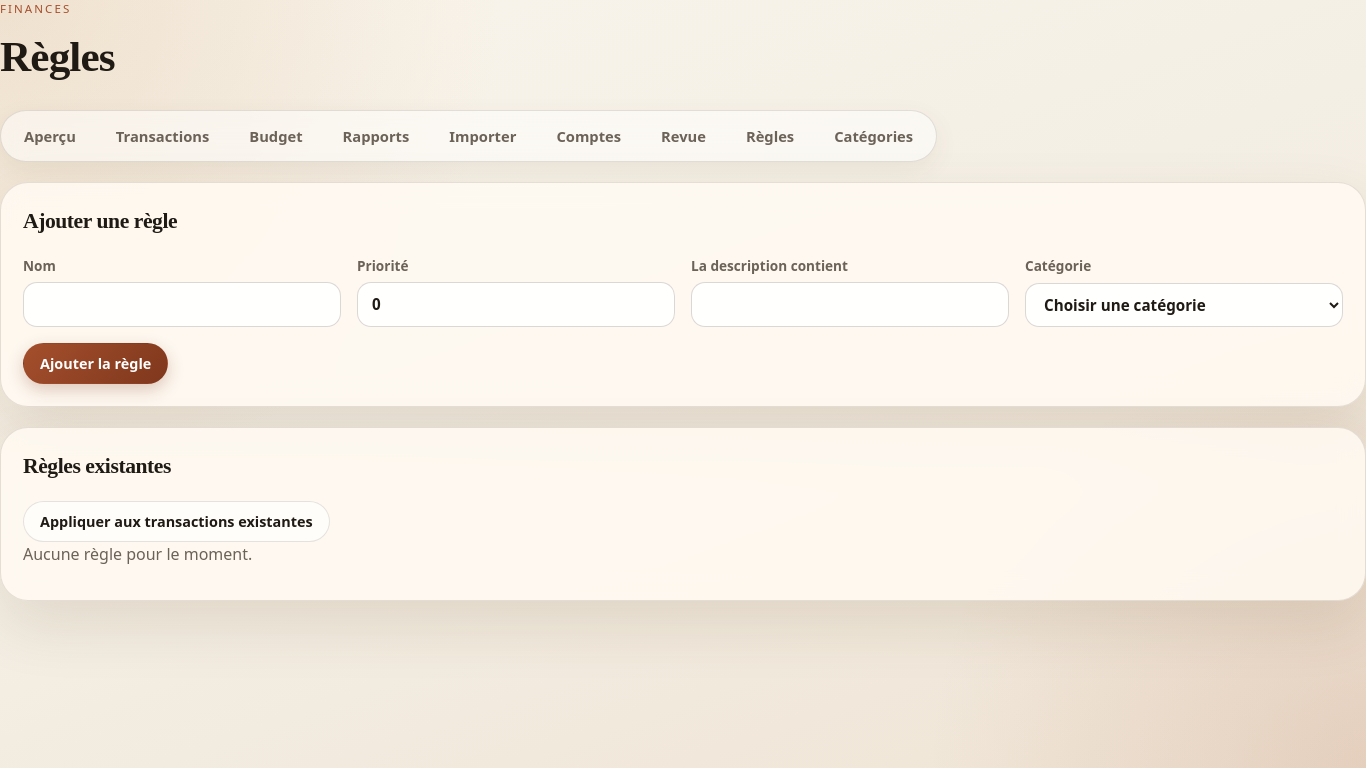
it: FinanceRulesPage › creates a rule and applies it to existing transactions
This screenshot has width=1366, height=768.
Type "Épicerie IGA" into the field labelled "Nom".
click(182, 304); type("Épicerie IGA")  # box [23,282,341,327]
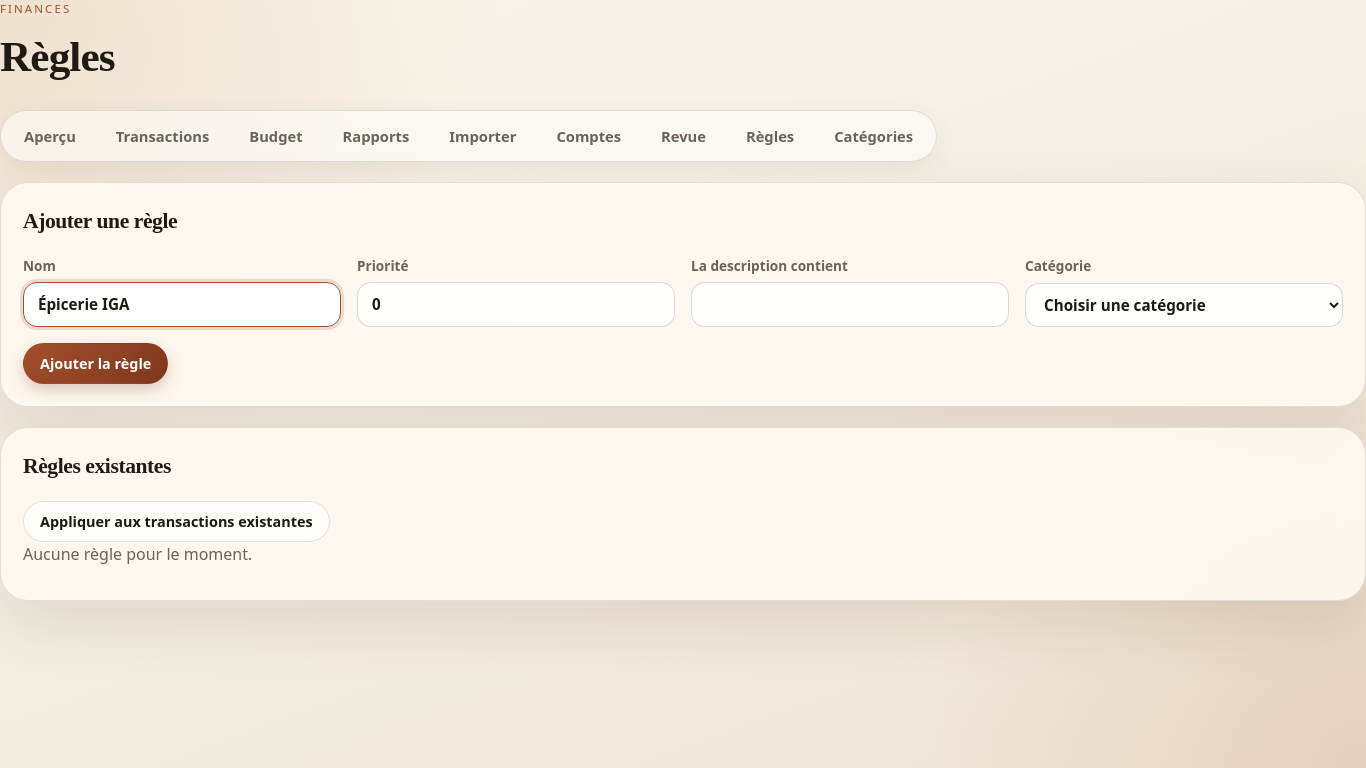
Type "IGA" into the field labelled "La description contient".
click(850, 304); type("IGA")  # box [691,282,1009,327]
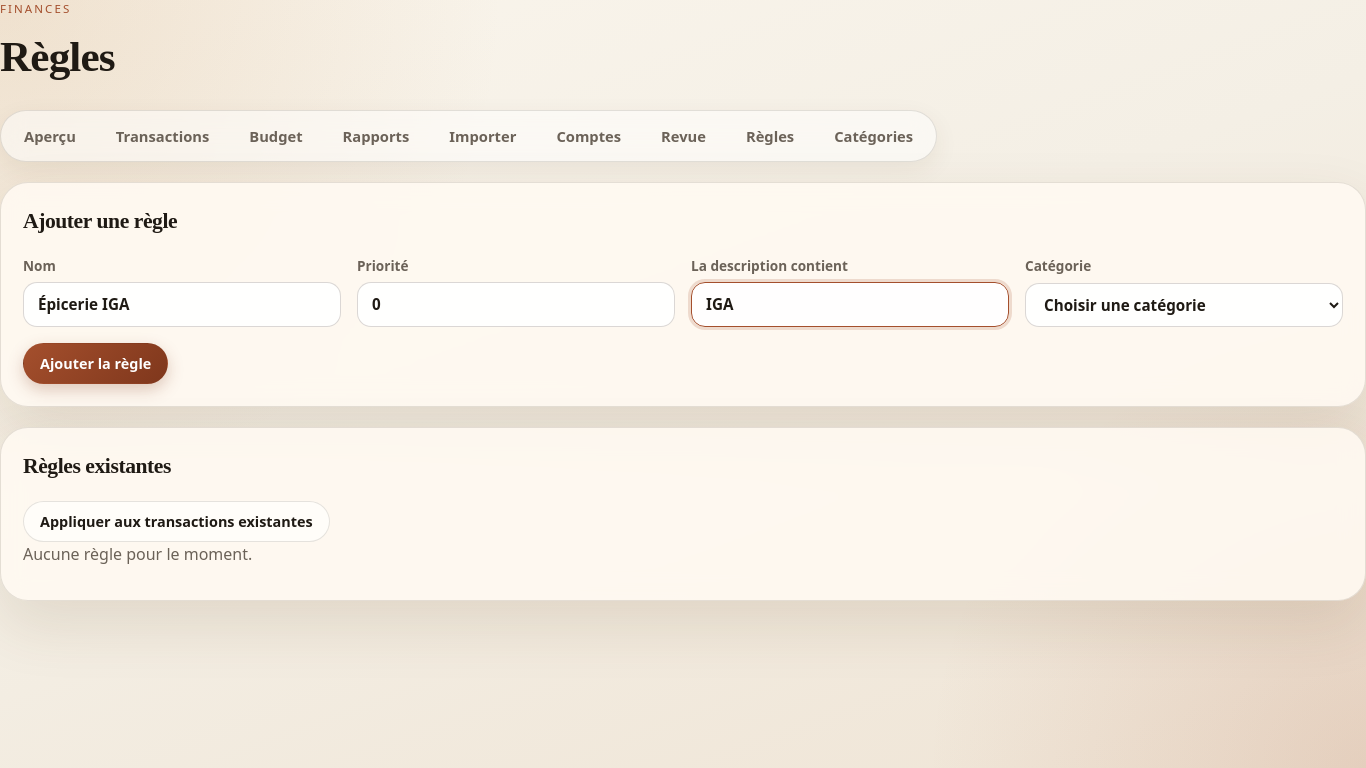
Select "Épicerie" in the dropdown labelled "Catégorie" at (1184, 305), box [1025,283,1343,327]
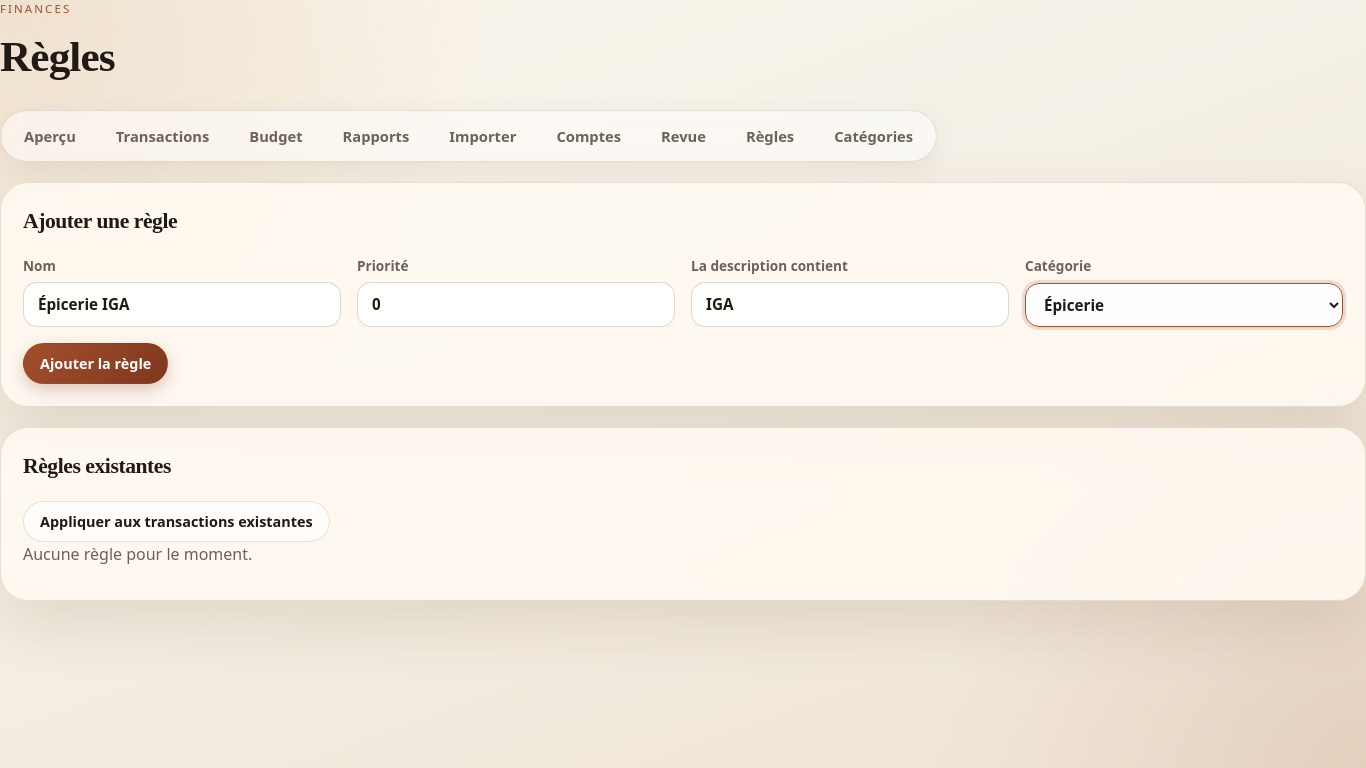
Click the button "Ajouter la règle".
click(96, 364)  # box [23,343,168,384]
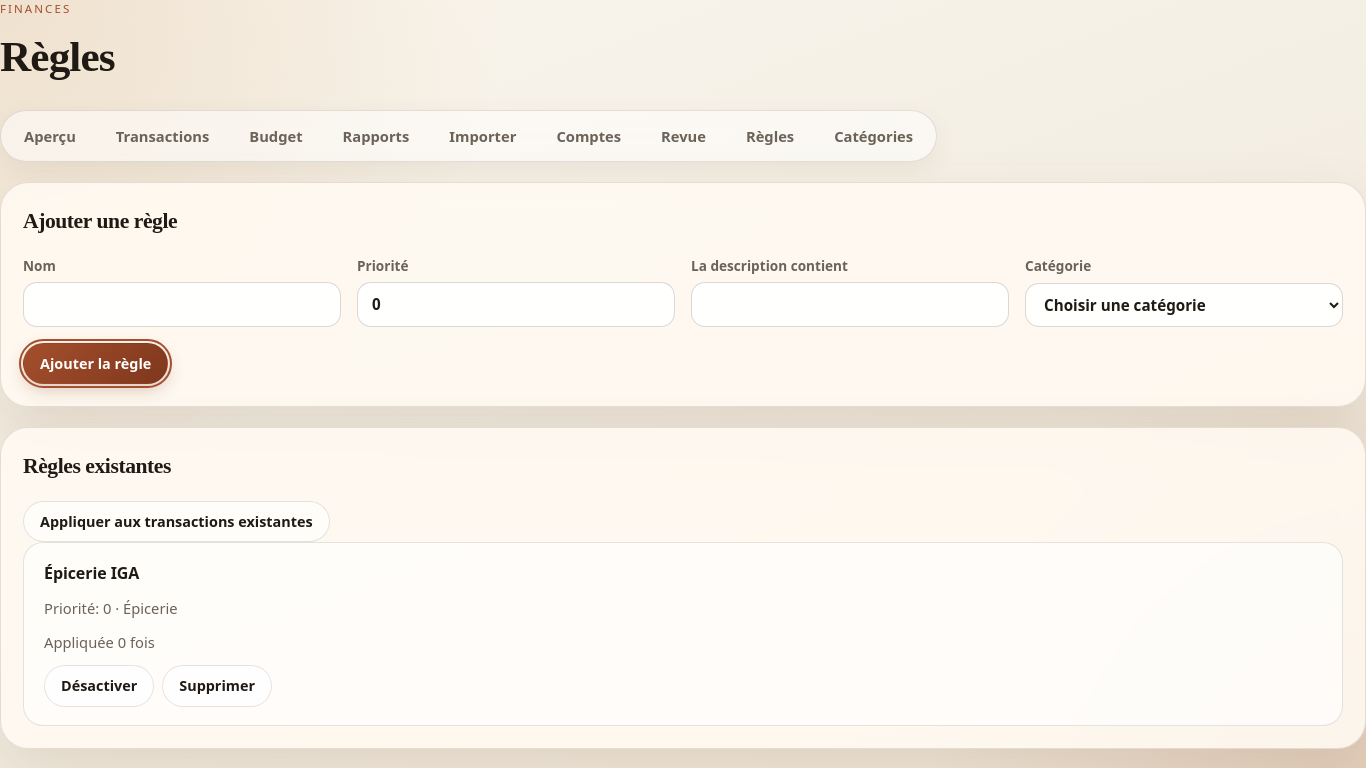
Result: the heading "Épicerie IGA" is shown at [44,562,139,584]
Click the button "Appliquer aux transactions existantes".
click(176, 522)  # box [23,501,330,542]
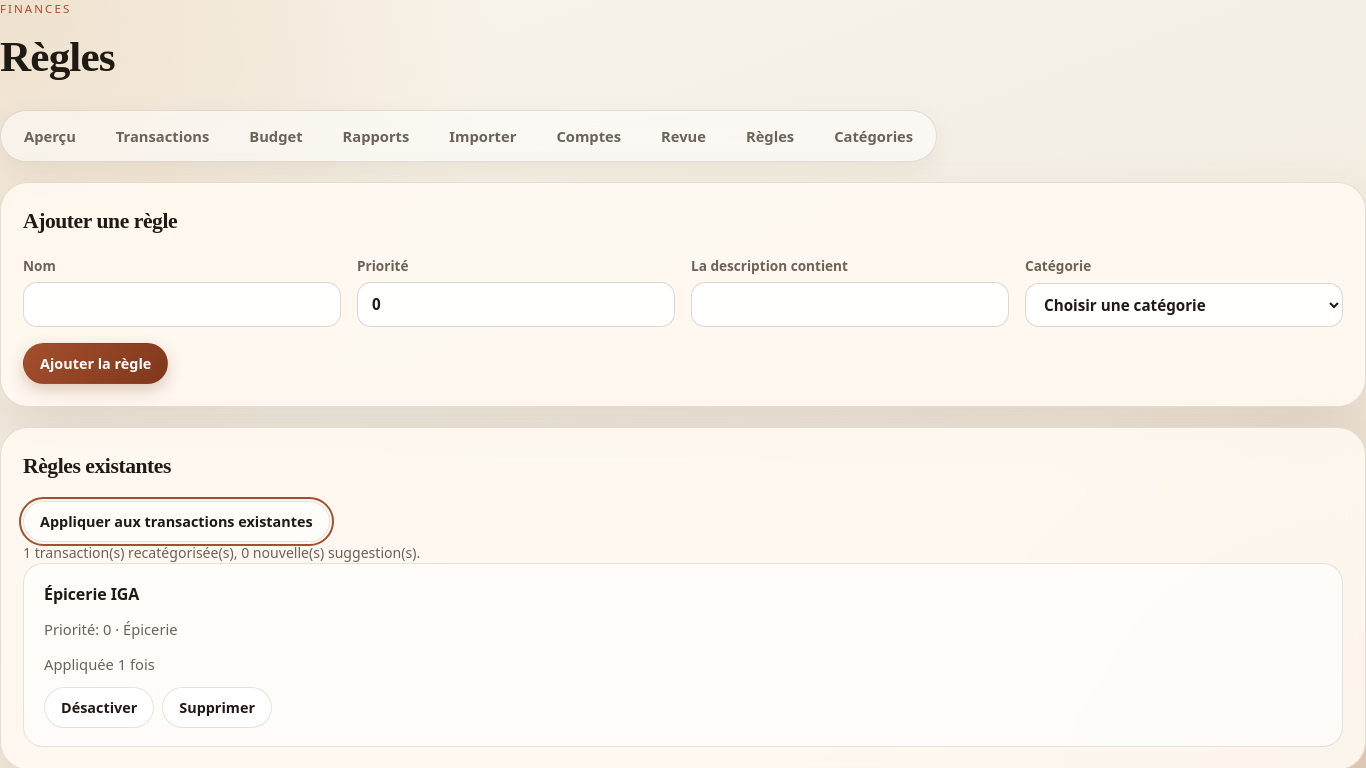
Result: the text "Appliquée 1 fois" is shown at [44,654,155,674]
